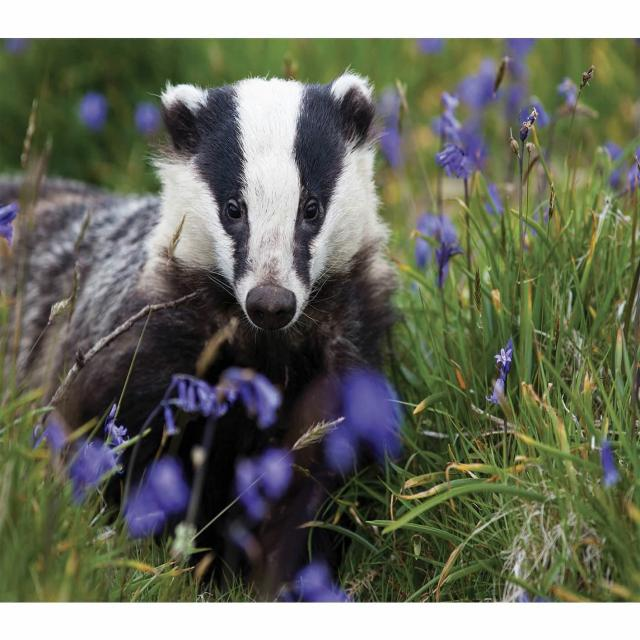badger: (19, 73, 401, 601)
